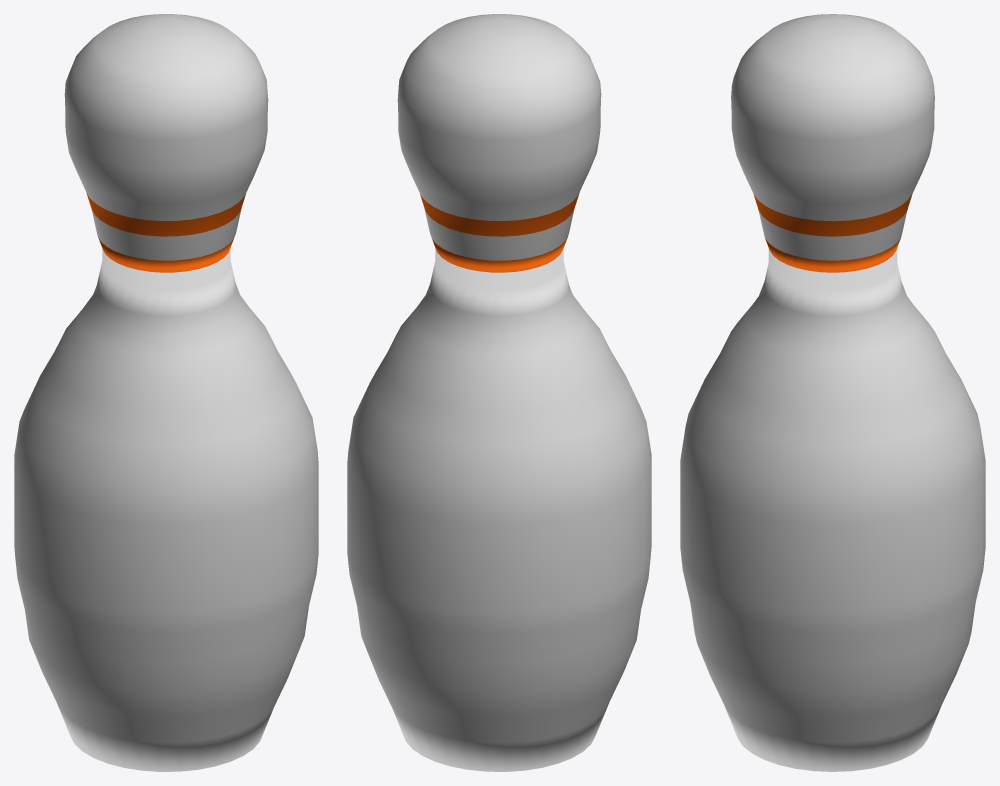
The model's file is boliche-pino.fbx.
3 renders of one model, left to right at view 1: azimuth 30°, elevation 25°; view 2: azimuth 150°, elevation 25°; view 3: azimuth 270°, elevation 25°, orthographic.
Parts seen in each view (by area): view 1: Cylinder.001; view 2: Cylinder.001; view 3: Cylinder.001.
Part boxes in pixels (<box>): Cylinder.001: <box>14,14,318,771</box>; Cylinder.001: <box>347,14,651,771</box>; Cylinder.001: <box>680,14,985,771</box>.
Bounding box in the file's own units: 110 × 279 × 110.
